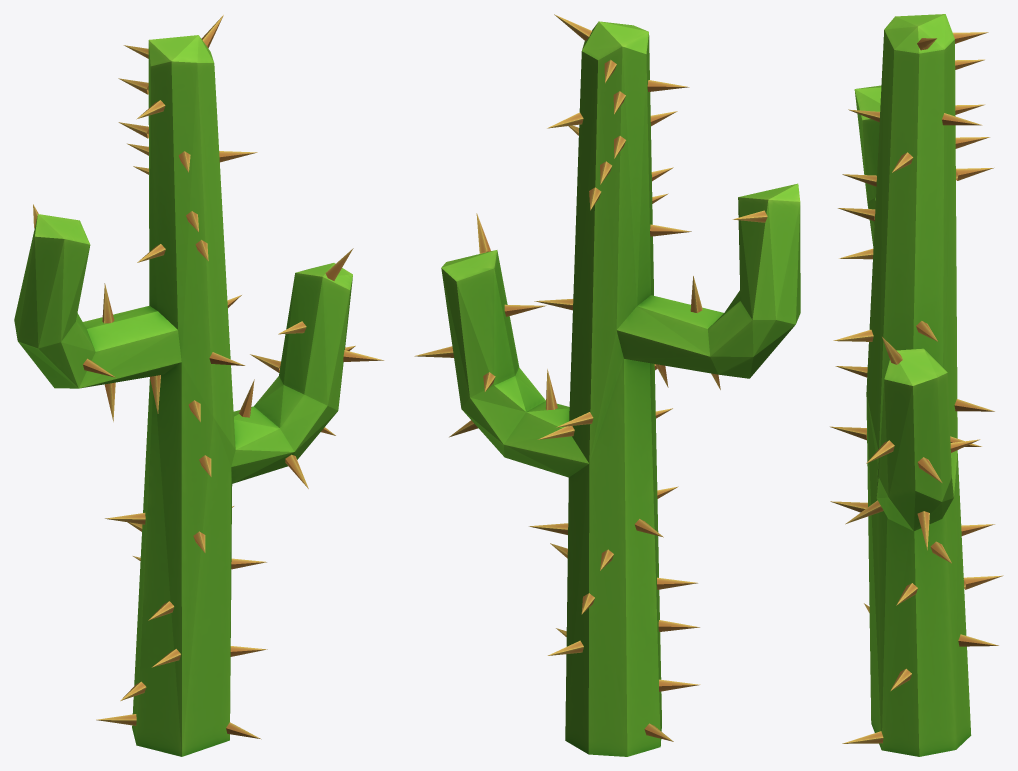
The model's file is Cactus_32.fbx.
3 renders of one model, left to right at view 1: azimuth 30°, elevation 25°; view 2: azimuth 150°, elevation 25°; view 3: azimuth 270°, elevation 25°, orthographic. The views are drawn at different scales.
Parts seen in each view (by area): view 1: Cactus_32; view 2: Cactus_32; view 3: Cactus_32.
Part boxes in pixels (<box>): Cactus_32: <box>14,15,384,756</box>; Cactus_32: <box>414,14,800,756</box>; Cactus_32: <box>830,14,1003,756</box>.
Bounding box in the file's own units: 59.73 × 112 × 24.58.
